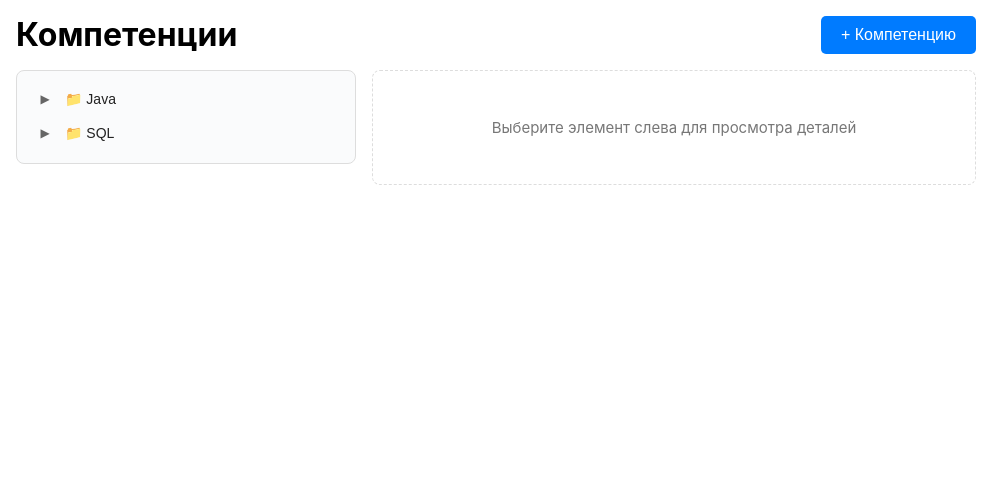
Test case: AdminCompetenciesTreePage (lock) › раскрытие секции показывает темы, выбор темы открывает панель деталей
Expected: the button "📁 Java" is shown, [59,87,337,111]
Step 1. Click the button named "Развернуть" → (45, 99), box [35,92,55,106]
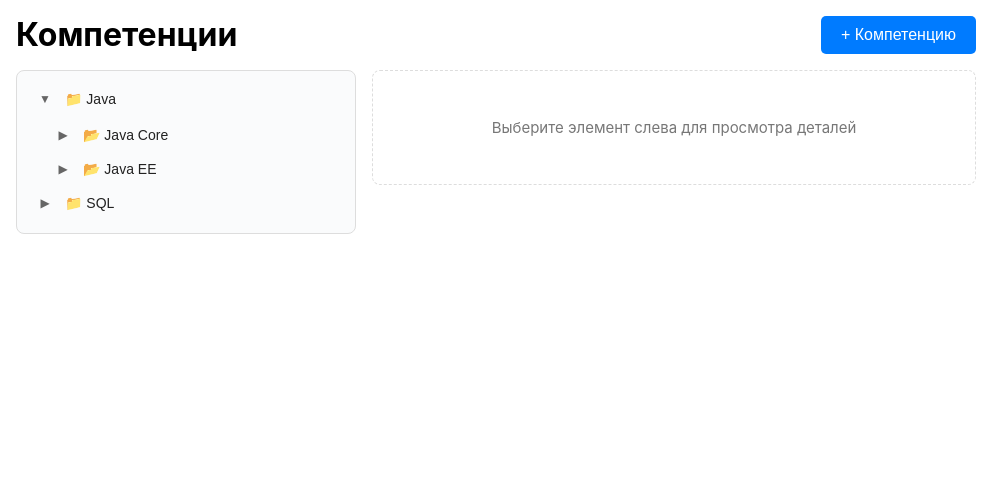
Step 2. Click the button named "Развернуть" → (63, 135), box [53,128,73,142]
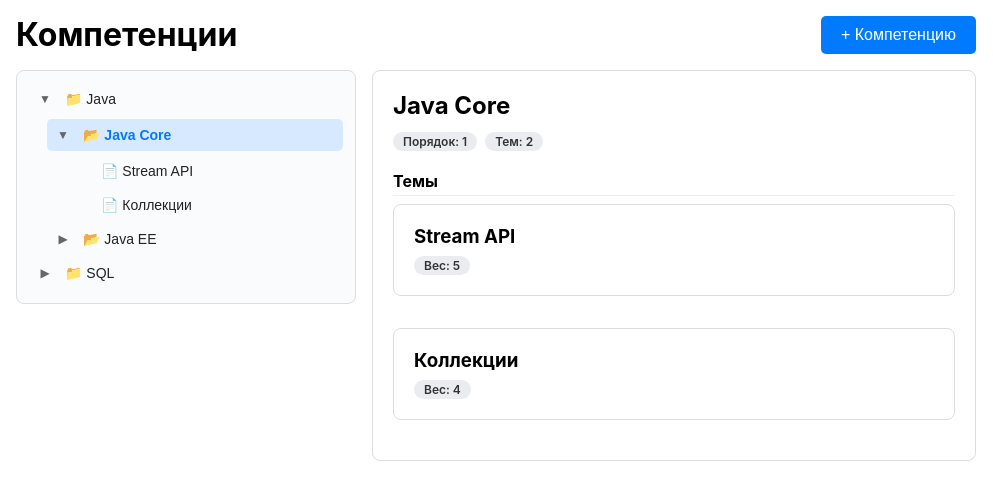
Expected: the button "📄 Stream API" is shown
Step 3. Click the button "📄 Stream API" → (216, 171), box [95,159,337,183]
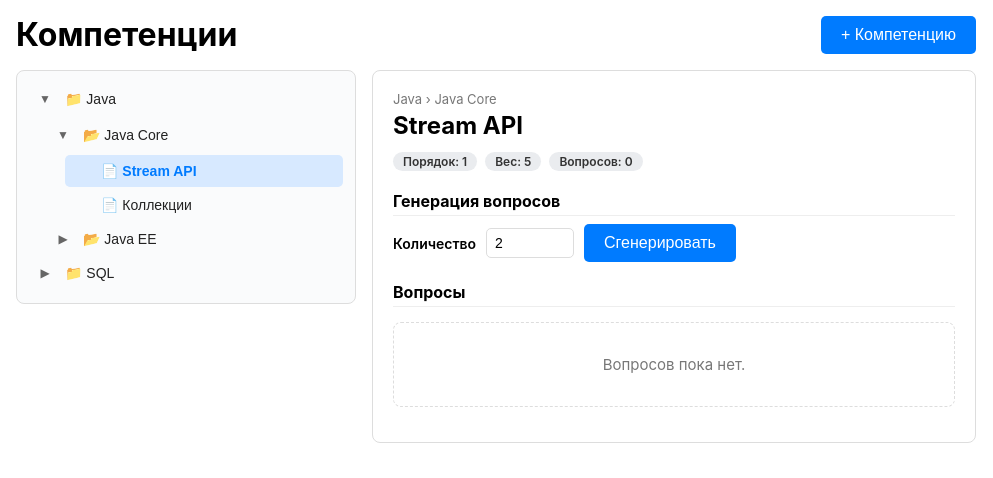
Expected: the text "Java › Java Core" is shown, [393,91,497,107]
Expected: the text "Вопросов пока нет." is shown, [393,322,955,407]
